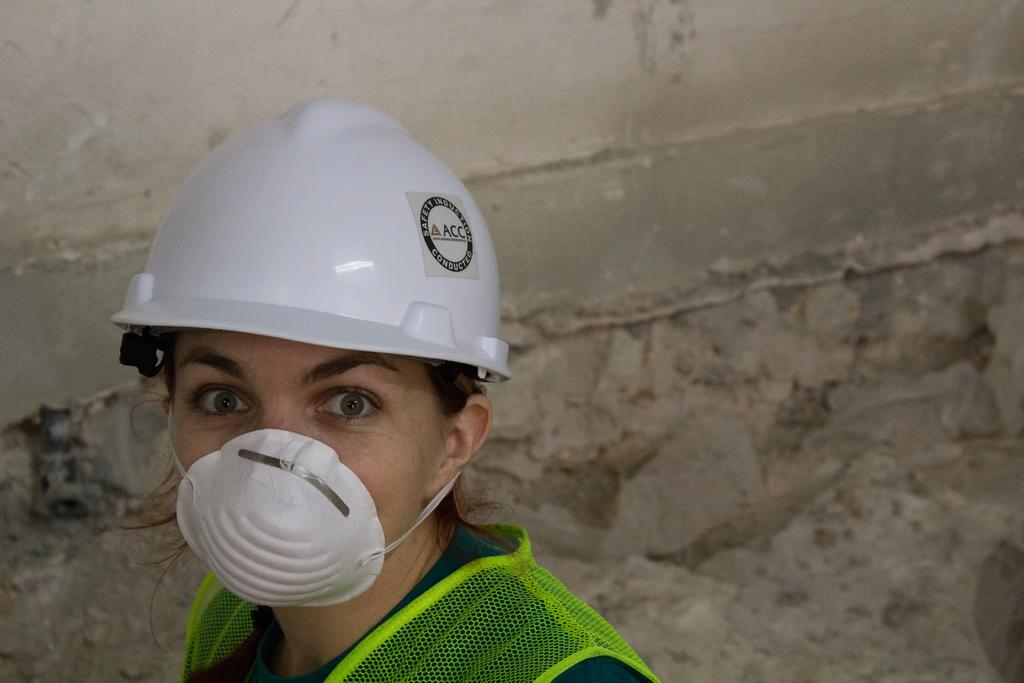helmet: (110, 95, 513, 577)
